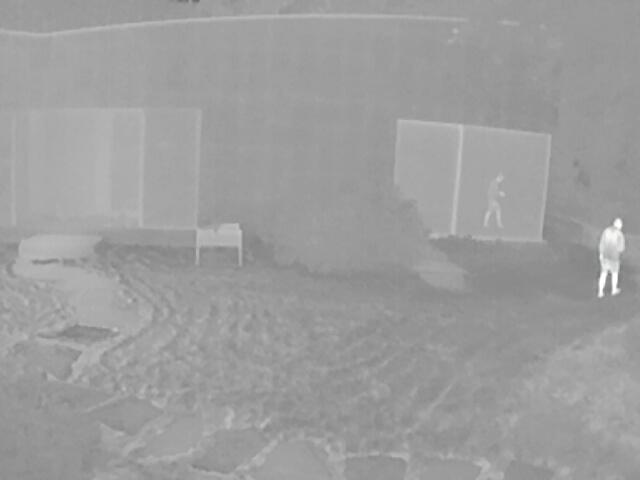person: (597, 216, 624, 298), (483, 170, 508, 230)
